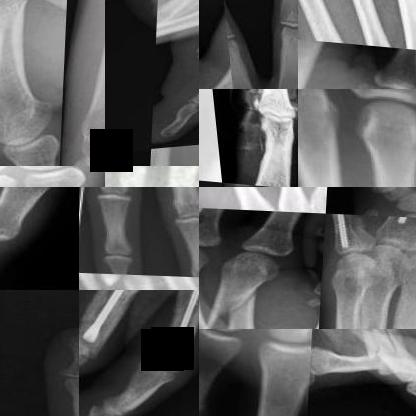fracture: (79, 290, 151, 349), (205, 275, 280, 328), (155, 290, 198, 363), (350, 329, 407, 363), (327, 212, 359, 260), (312, 342, 341, 393), (79, 272, 157, 289), (38, 0, 70, 32), (151, 151, 196, 165), (183, 100, 198, 123)
